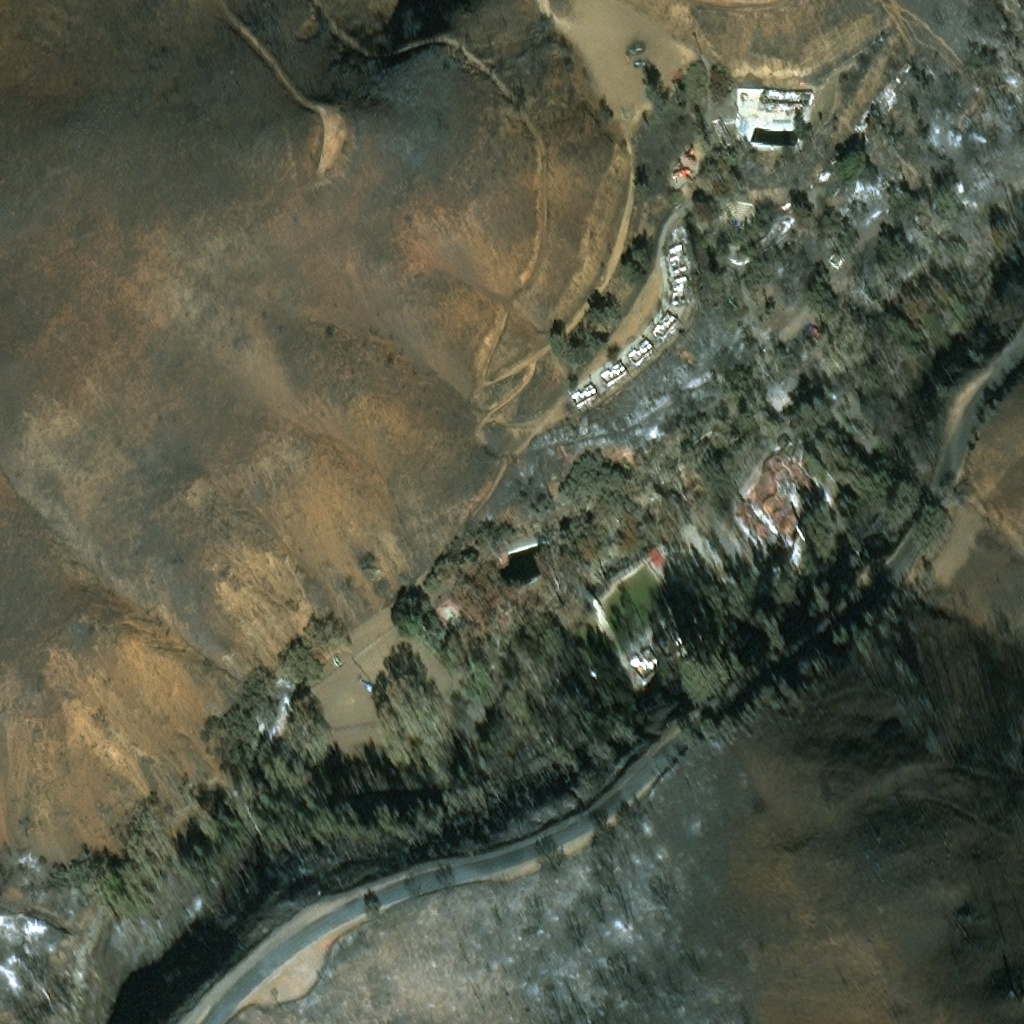2 major-damage: (720, 441, 824, 555)
3 destroyed: (819, 140, 861, 184), (753, 85, 812, 109), (614, 637, 644, 679), (645, 617, 675, 654), (695, 554, 729, 586), (627, 338, 660, 370), (652, 311, 684, 344), (599, 362, 632, 391), (569, 385, 602, 412), (854, 106, 881, 136), (666, 246, 689, 279), (705, 114, 728, 143), (671, 275, 691, 304), (877, 85, 898, 107), (882, 180, 903, 200), (668, 223, 683, 246), (903, 221, 922, 238), (859, 270, 878, 287), (823, 254, 841, 270), (780, 203, 796, 218), (901, 63, 912, 75)
